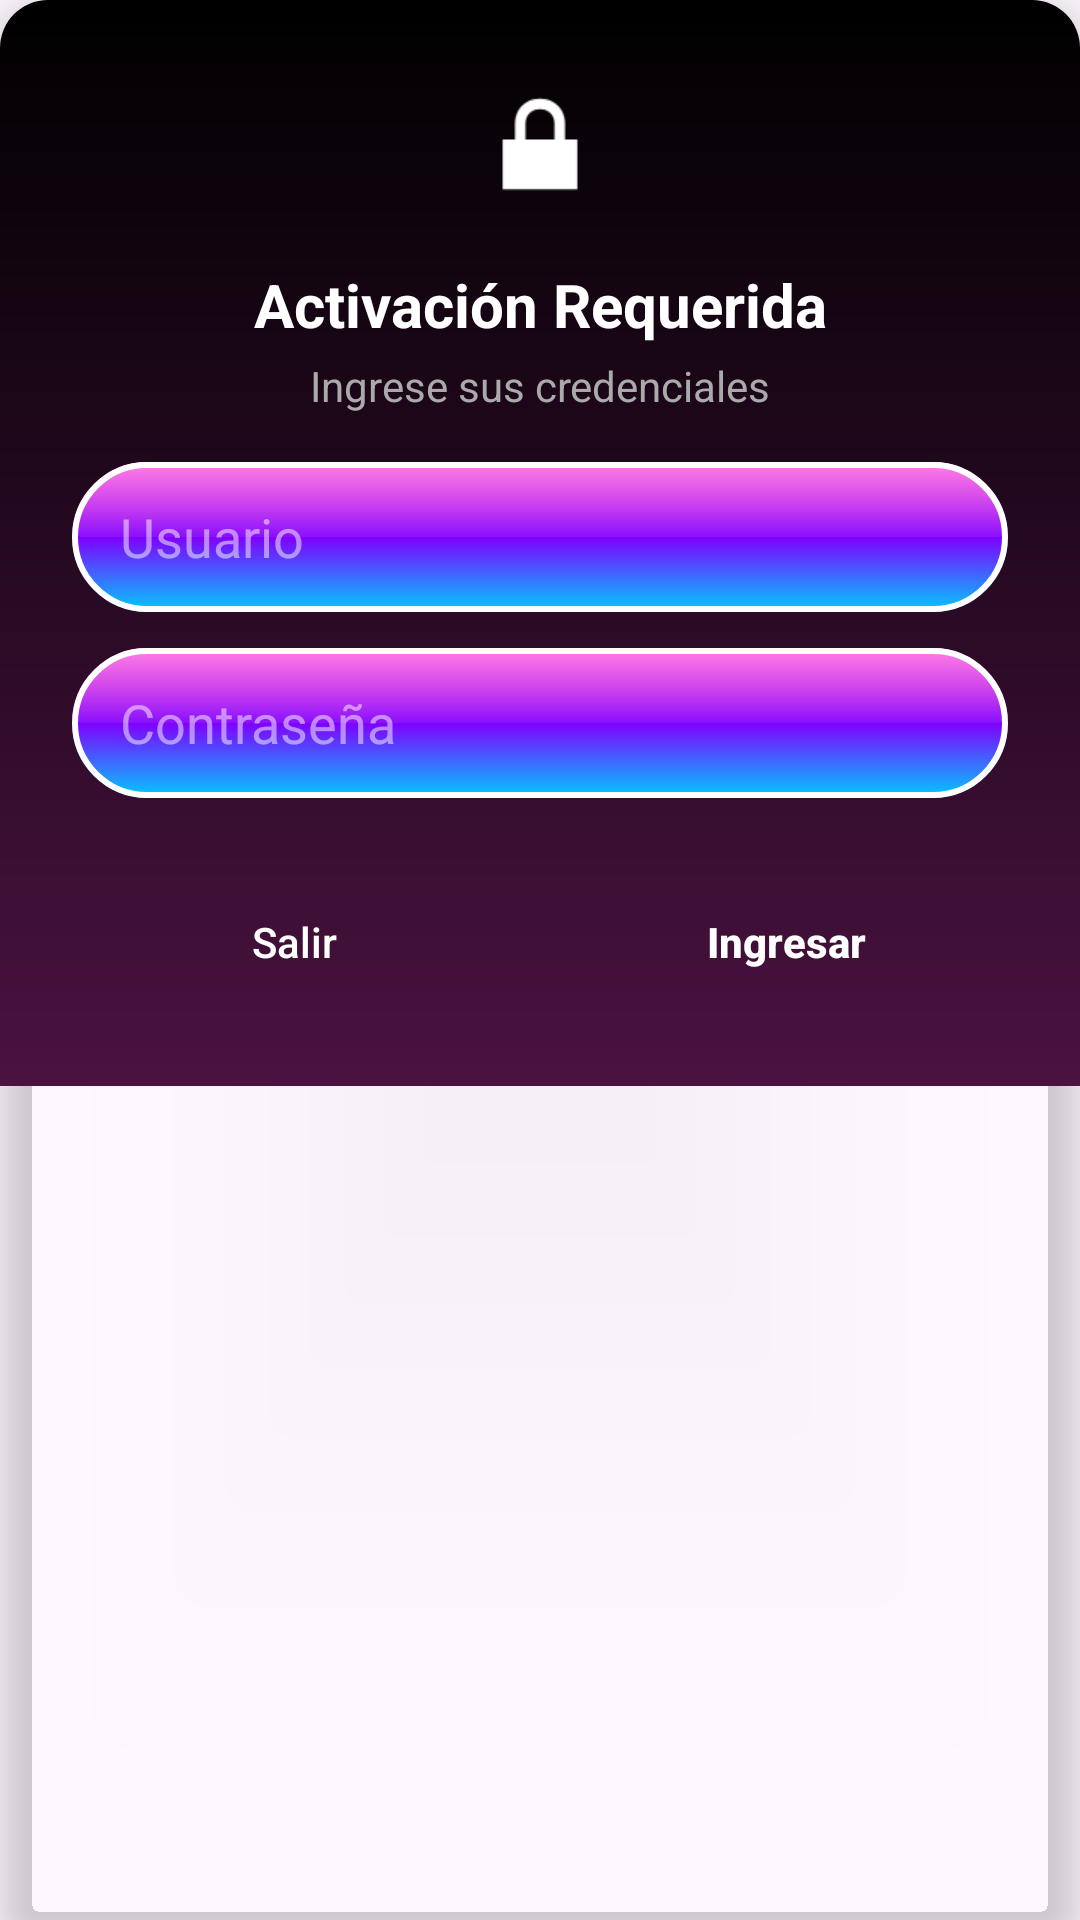

Named icons in this screenshot (1080x1920) and their centers, point (x, y):
lock: point (540, 144)
